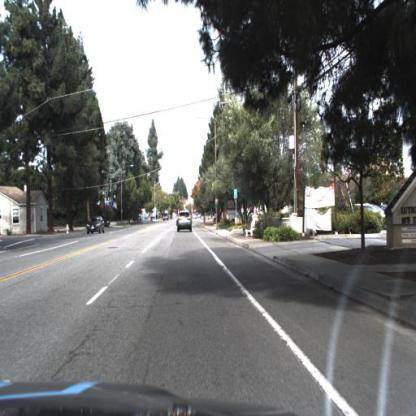car: (84, 215, 108, 238), (176, 208, 194, 237)
